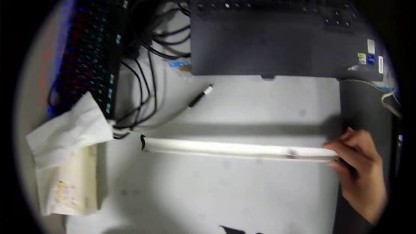gangzhu: (286, 147, 296, 156)
